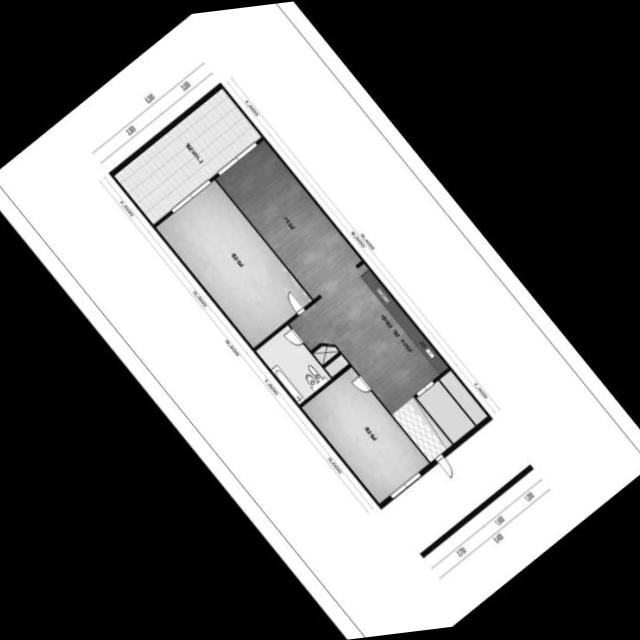background: (0, 1, 640, 639)
space_balconi: (113, 88, 261, 224)
space_bedroom: (155, 179, 311, 347), (301, 366, 428, 503)
space_front: (391, 396, 451, 461)
space_kitchen: (328, 263, 447, 395)
space_living_room: (215, 139, 412, 413)
space_other: (416, 380, 474, 443), (438, 370, 486, 424), (324, 354, 348, 376), (312, 345, 338, 365)
space_toilet: (255, 324, 330, 404)
